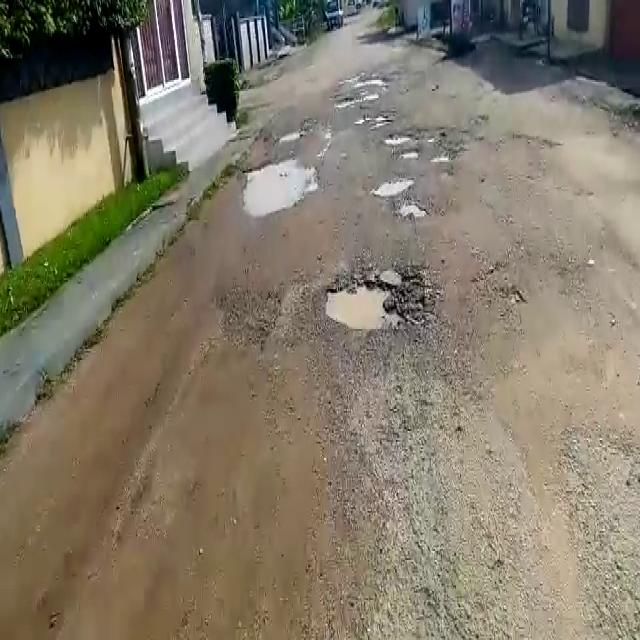Pothole: (322, 267, 429, 333), (241, 160, 320, 213), (367, 177, 412, 198), (392, 200, 430, 220), (360, 110, 397, 126), (384, 131, 420, 144), (280, 129, 302, 144), (400, 148, 420, 162), (430, 154, 449, 166)
